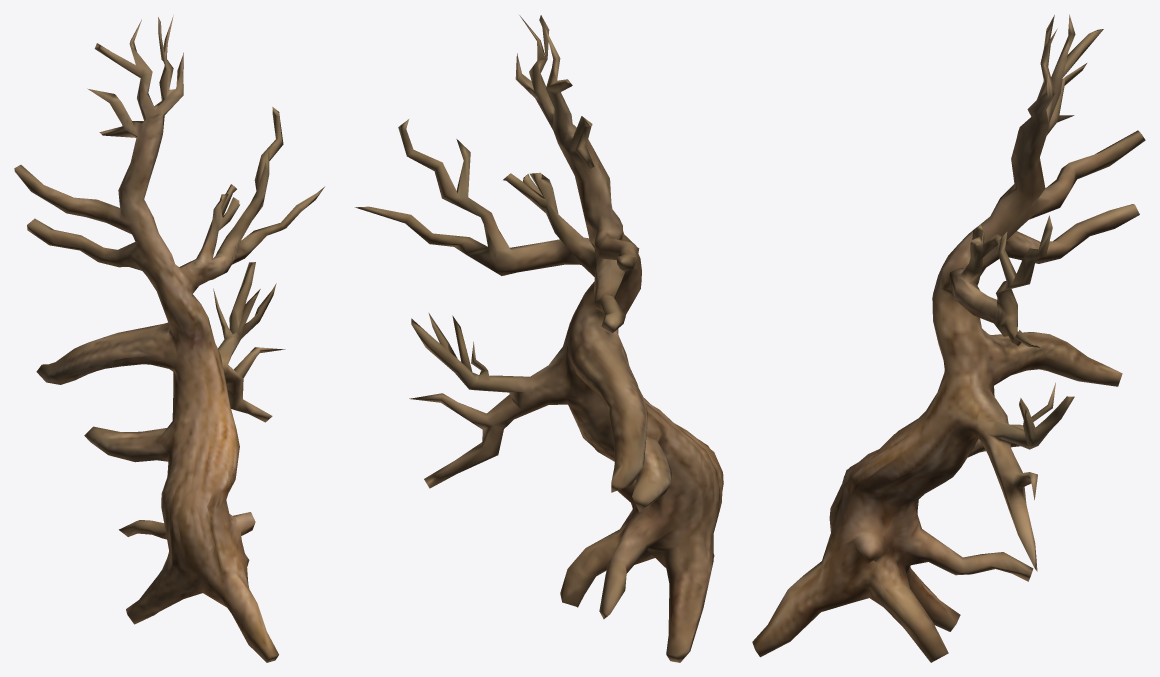
File: Arbol_Desertico.glb
3 views of the same model, side by side, from view 1: azimuth 30°, elevation 25°; view 2: azimuth 150°, elevation 25°; view 3: azimuth 270°, elevation 25° (orthographic). The views are drawn at different scales.
Visible parts, largest first — view 1: Arbol Desertico; view 2: Arbol Desertico; view 3: Arbol Desertico.
Part boxes in pixels (x1=…): Arbol Desertico: x1=14, y1=15, x2=324, y2=662; Arbol Desertico: x1=355, y1=15, x2=723, y2=662; Arbol Desertico: x1=752, y1=14, x2=1145, y2=662.
Bounding box in the file's own units: 0.1557 × 0.3071 × 0.1671.
Materials: 1 (1 with a texture image).
